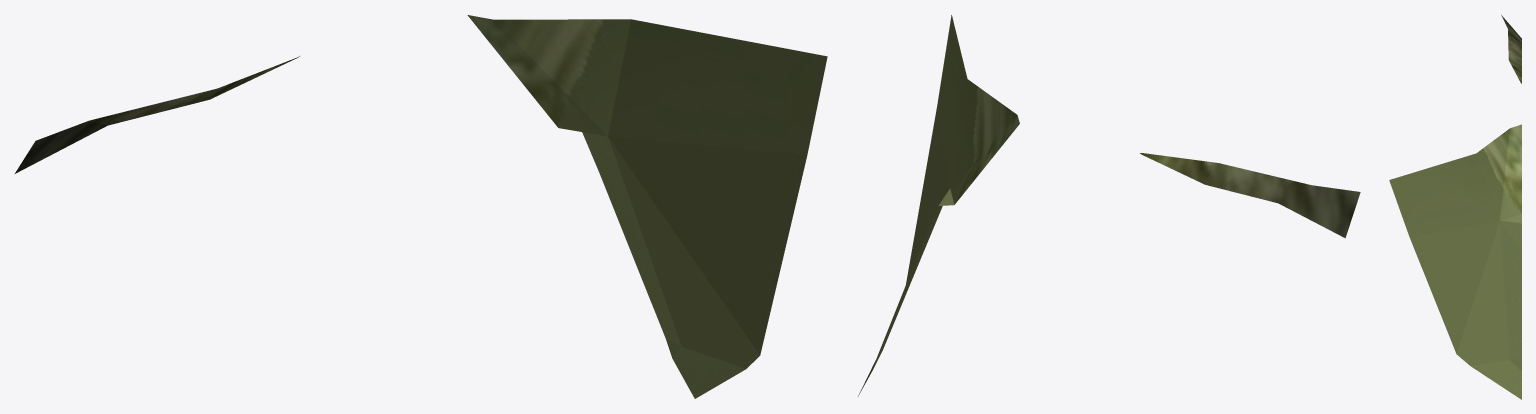
The picture shows the model from 3 angles, left to right: view 1: azimuth 30°, elevation 25°; view 2: azimuth 150°, elevation 25°; view 3: azimuth 270°, elevation 25°; orthographic projection. The views are drawn at different scales.
Bounding box in the file's own units: 2.95 × 1.82 × 0.9962.
Materials: 1 (1 with a texture image).
